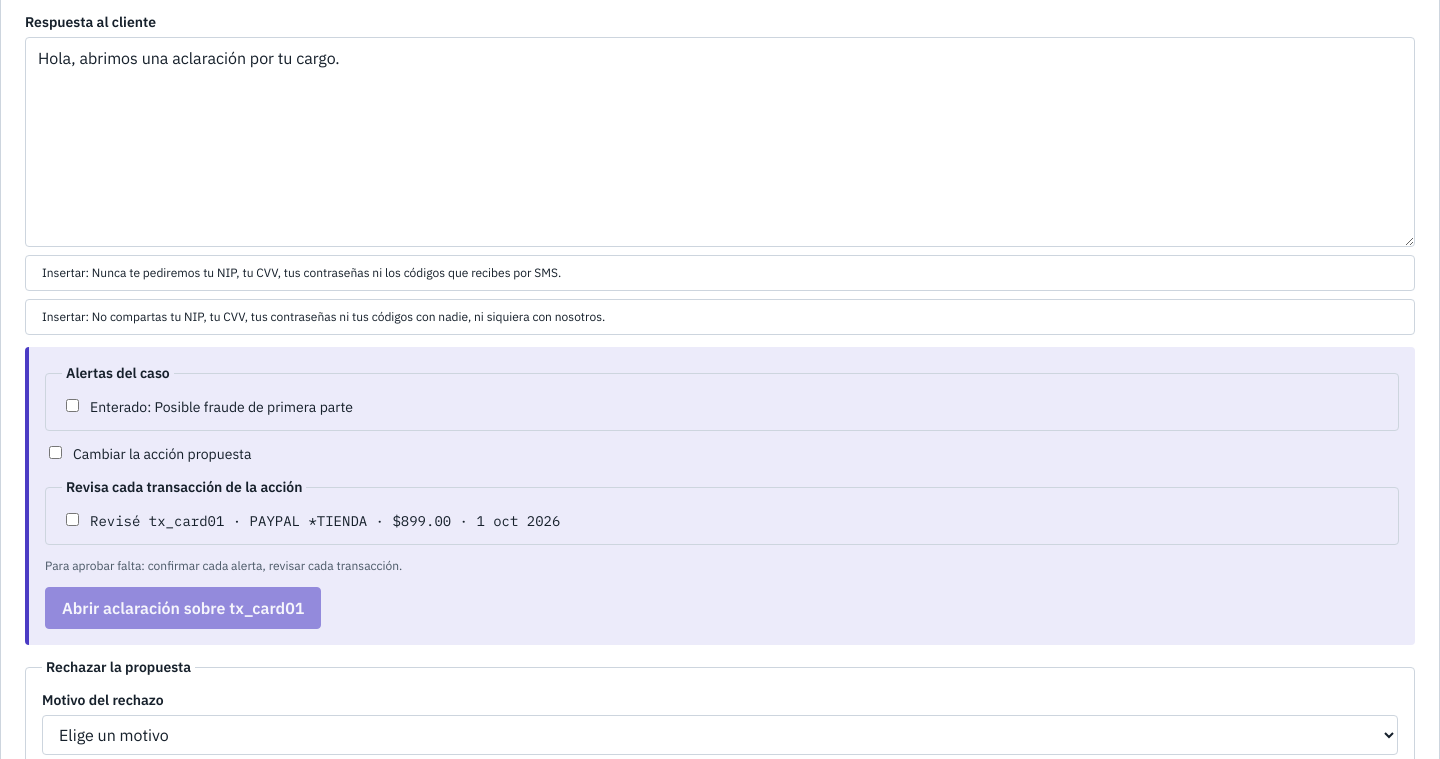
Test case: decision panel (02 G3) › says what an approval does, and nothing about canaries
This screenshot has width=1440, height=759.
(page scrolled)
Expected: the button "Abrir aclaración sobre tx_card01" is shown, [45, 587, 321, 629]
Step 1. Click the checkbox labelled "Enterado: Posible fraude de primera parte" → (72, 406), box [66, 399, 79, 412]
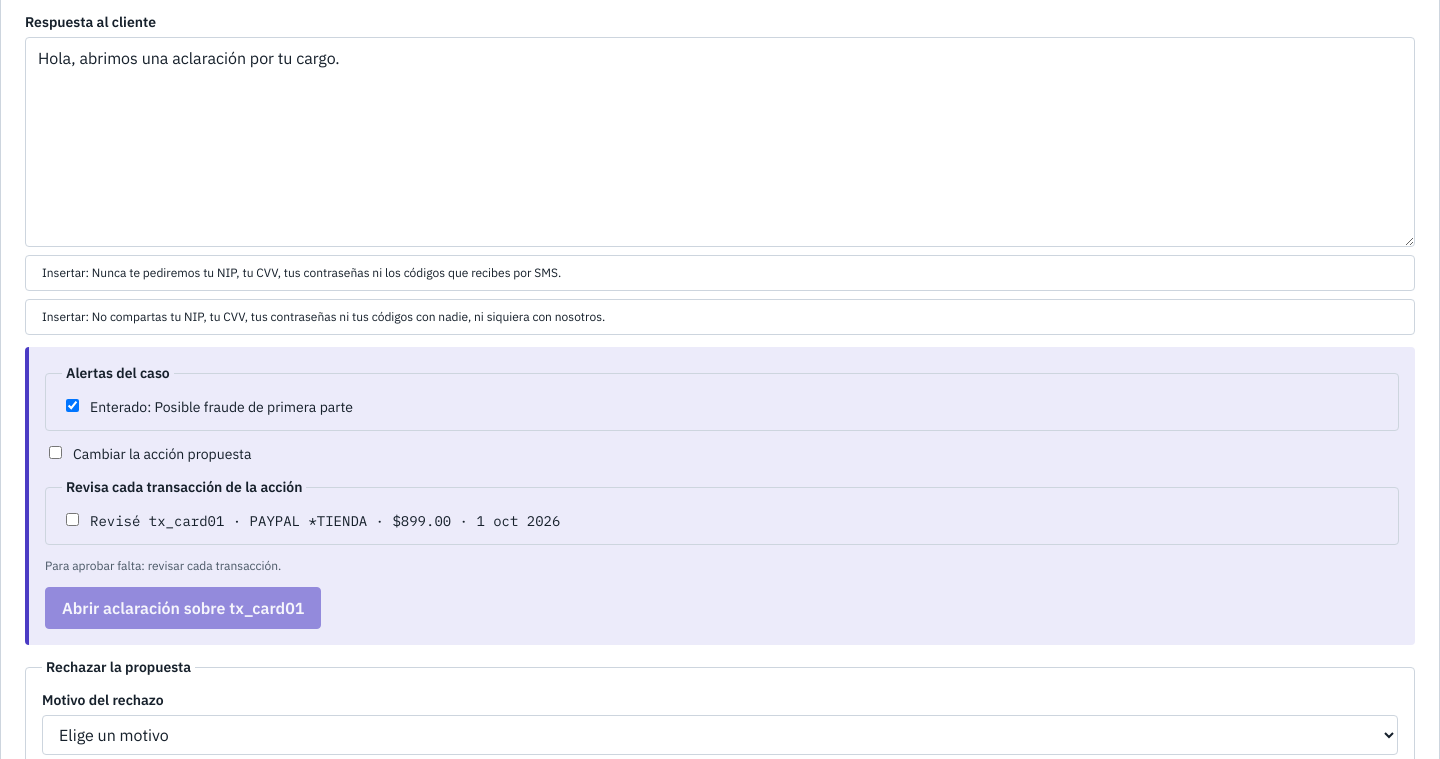
Step 2. Click the checkbox labelled "Revisé tx_card01 · PAYPAL *TIENDA · $899.00 · 1 oct 2026" → (72, 520), box [66, 513, 79, 526]
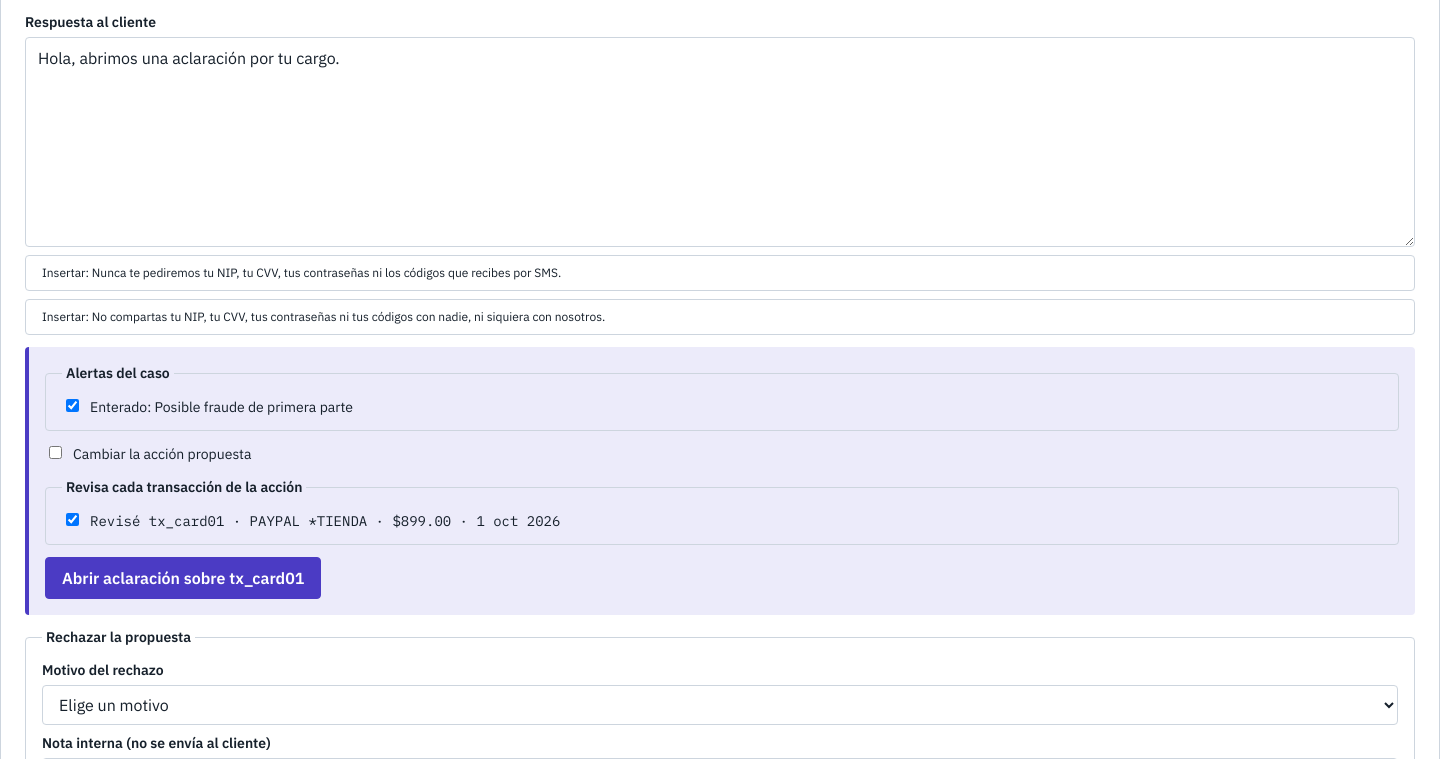
Step 3. Click the button "Abrir aclaración sobre tx_card01" → (183, 578), box [45, 557, 321, 599]
(page scrolled)
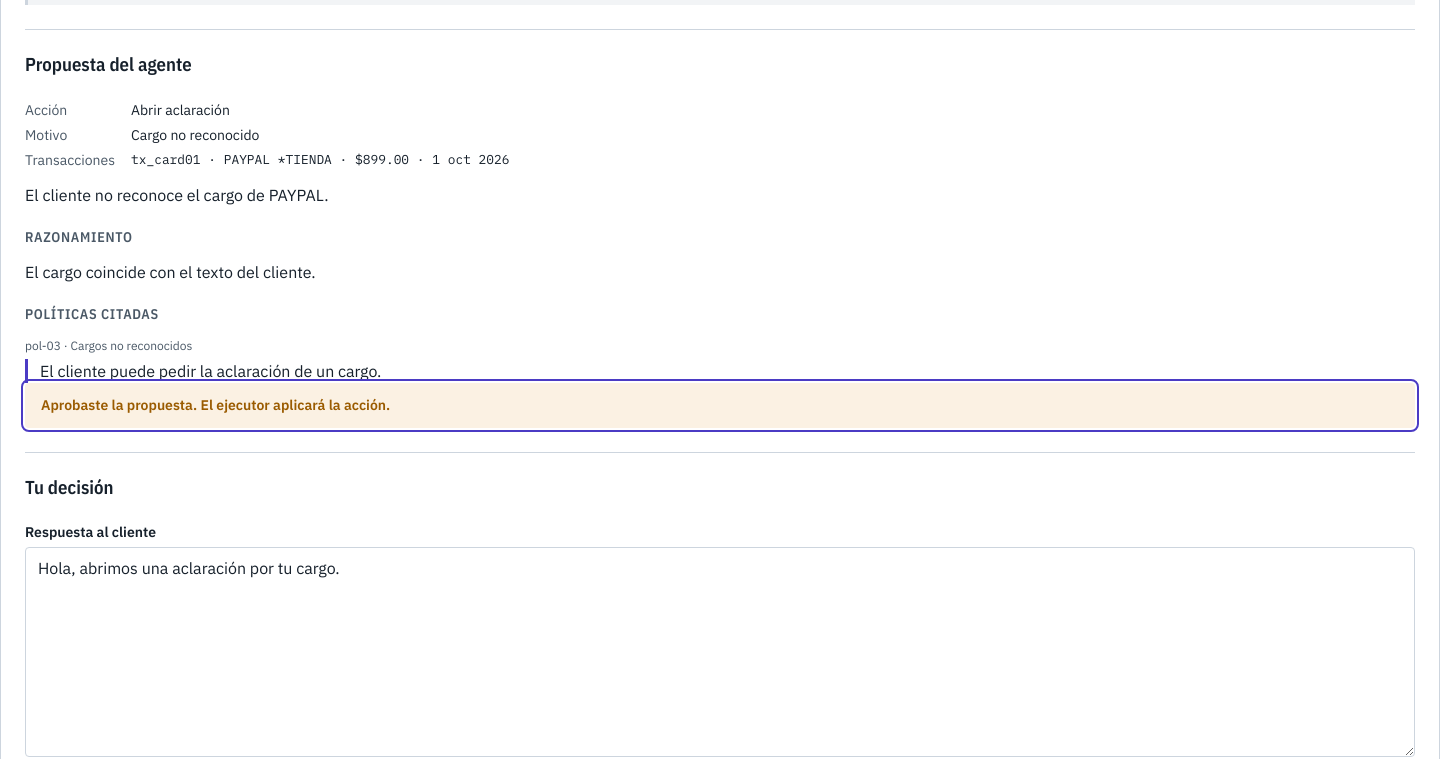
Expected: the message reads "Aprobaste la propuesta. El ejecutor aplicará la acción.", [41, 396, 390, 414]
